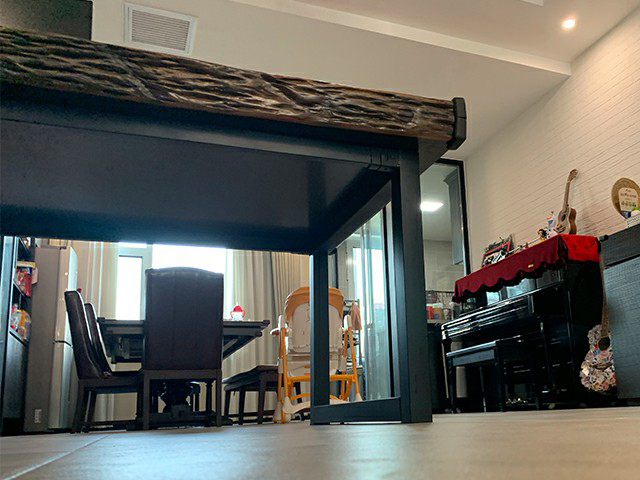cabinet: (598, 223, 640, 406), (1, 234, 37, 435)
stool: (137, 265, 225, 428), (64, 289, 158, 434), (445, 334, 536, 414), (219, 363, 281, 426)
table: (1, 23, 469, 427)
